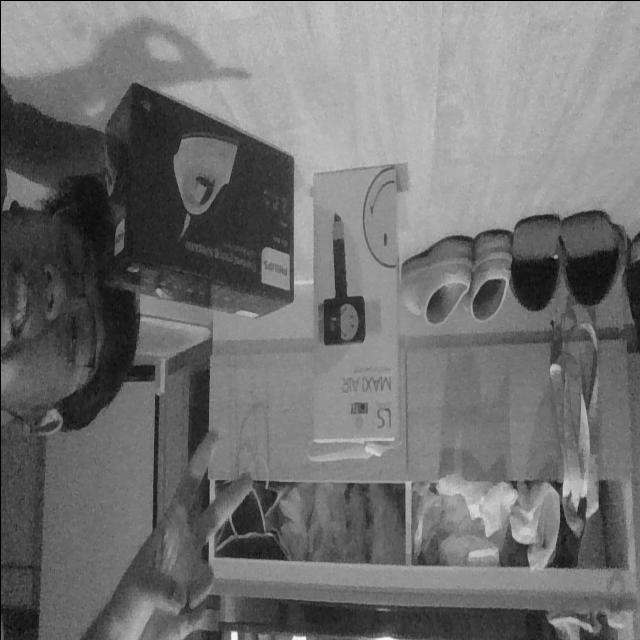Dryer: (307, 162, 403, 457)
IRON: (100, 80, 296, 323)
